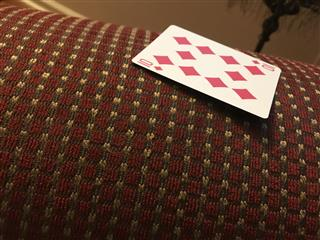TenOfDiamonds: (130, 23, 282, 119)
